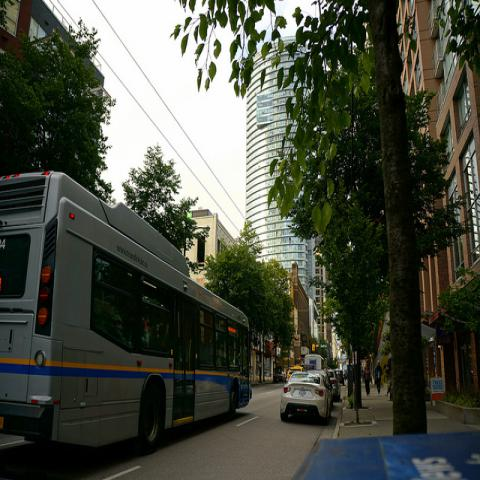bus: (0, 173, 253, 452)
car: (280, 371, 332, 424), (306, 368, 333, 391), (327, 370, 342, 402), (285, 365, 305, 383), (334, 370, 345, 386), (279, 370, 286, 383)
